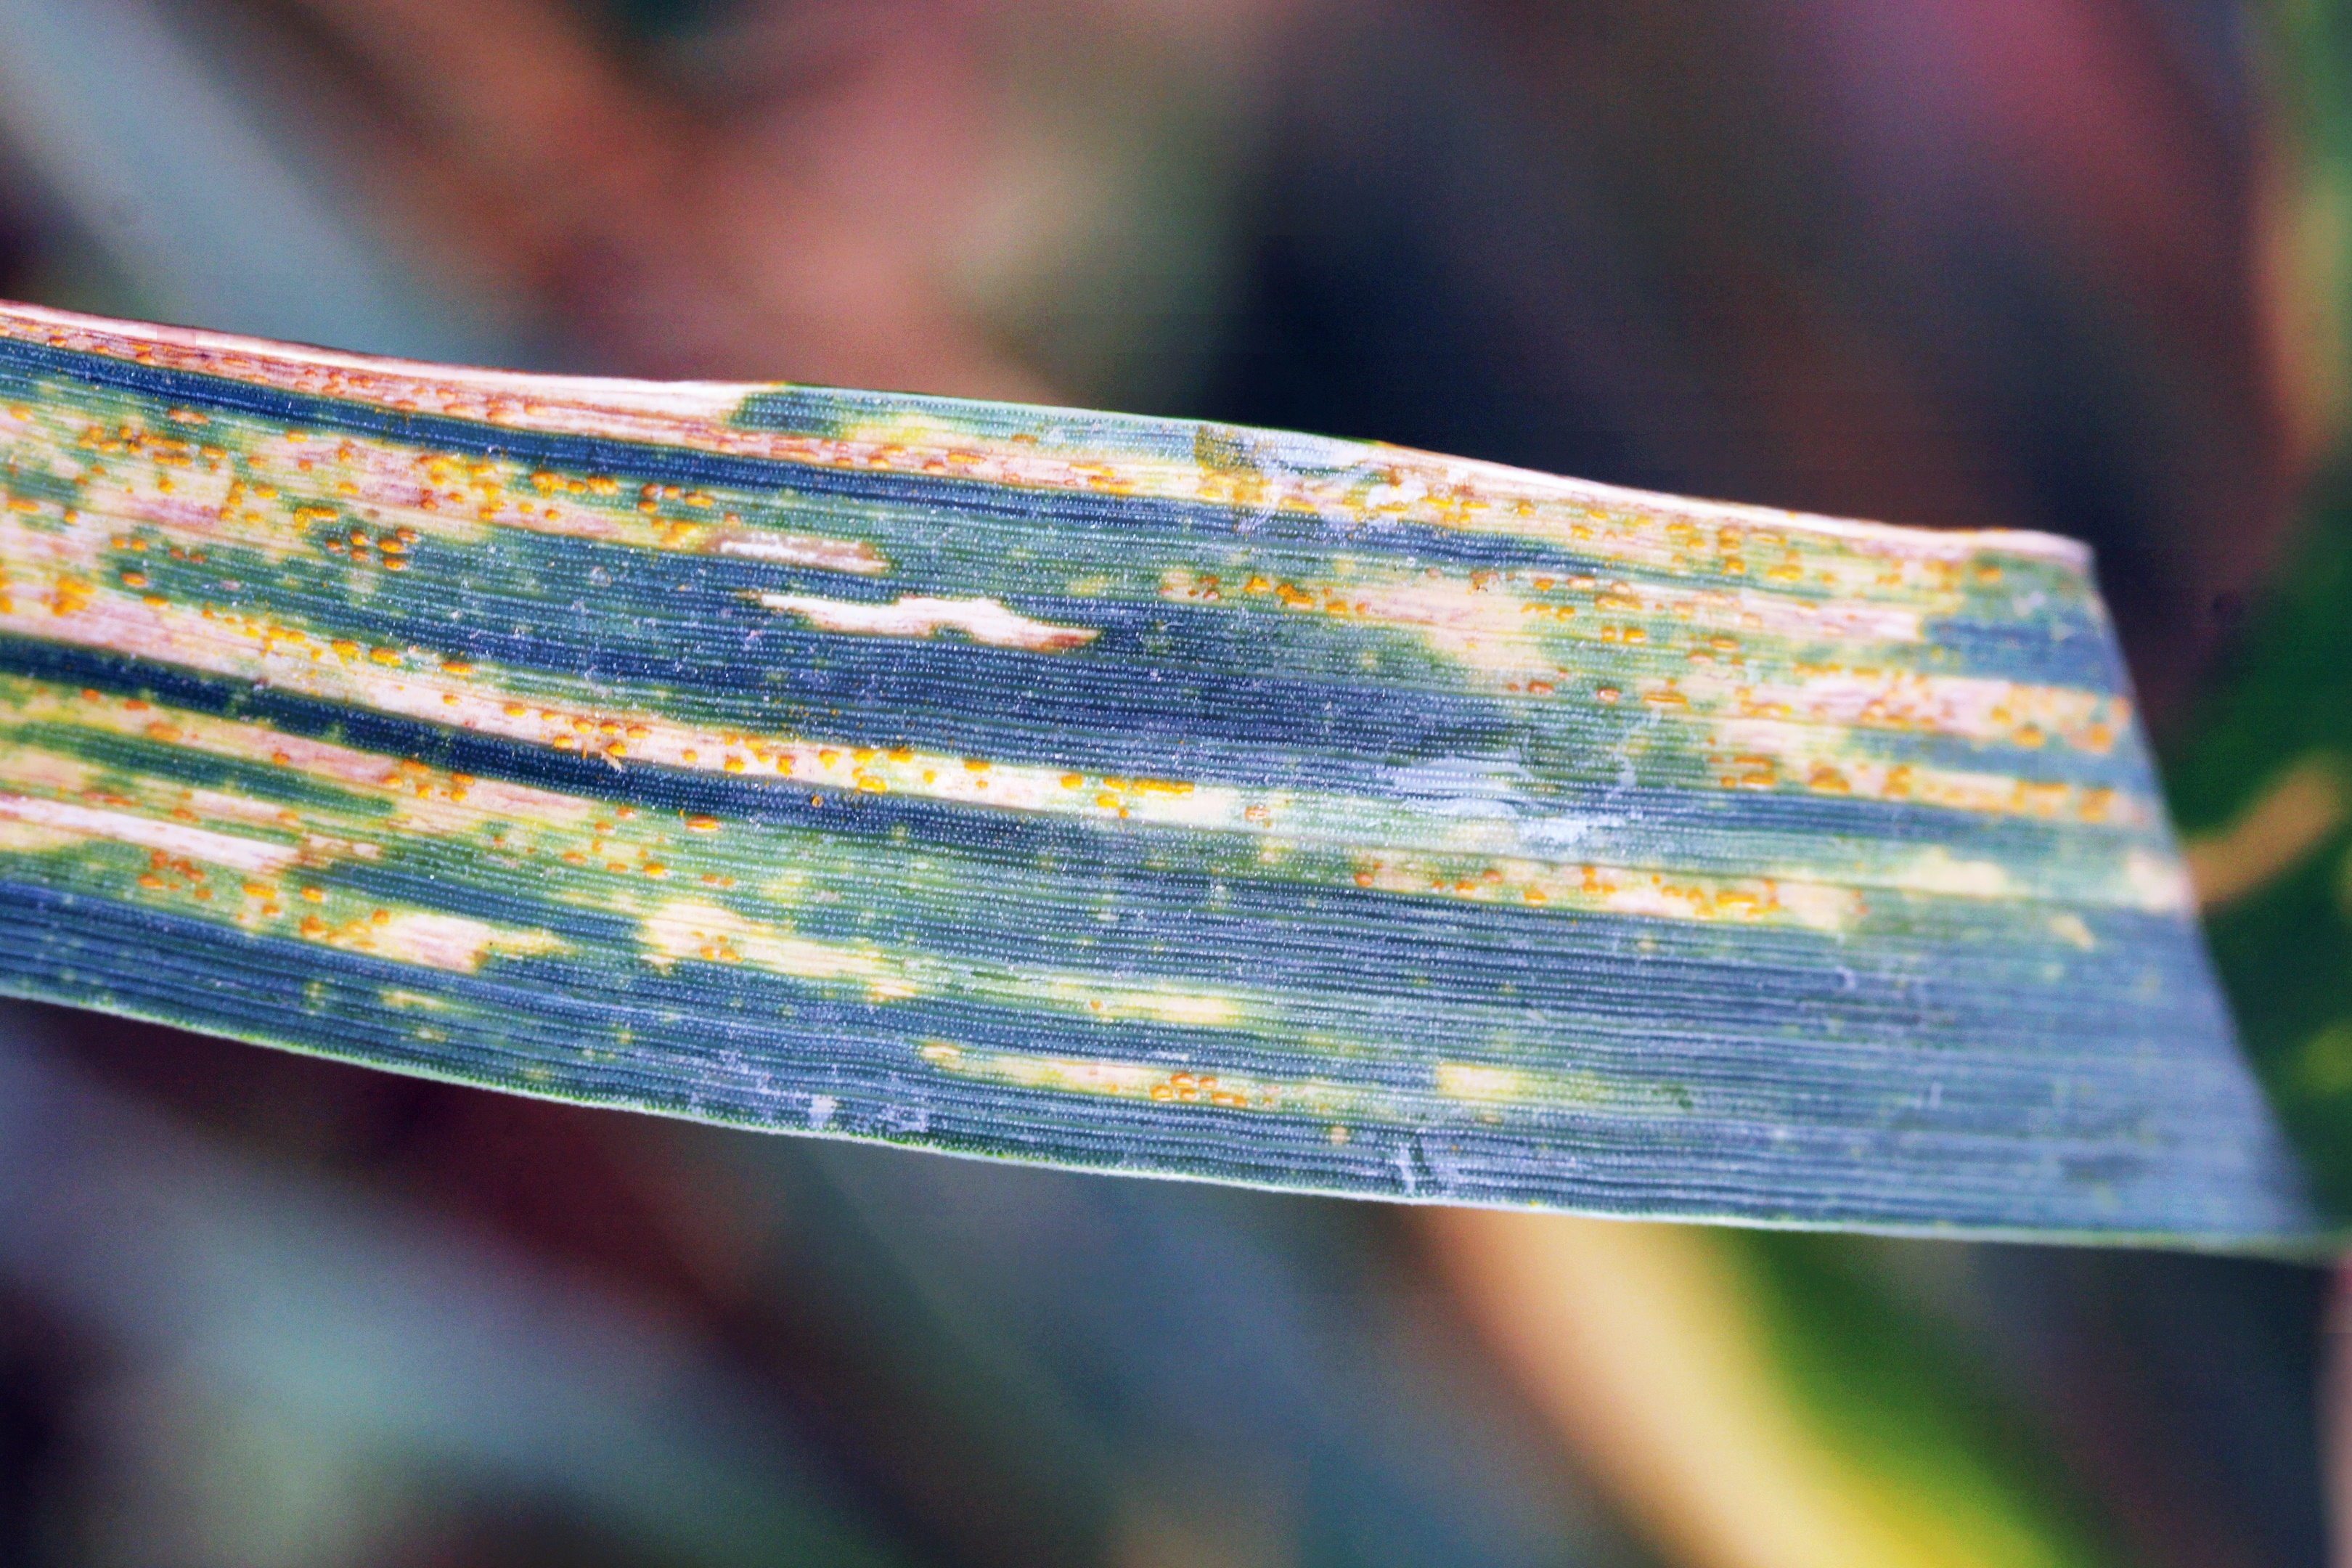Leaf Rust: (7, 324, 2020, 1060)
